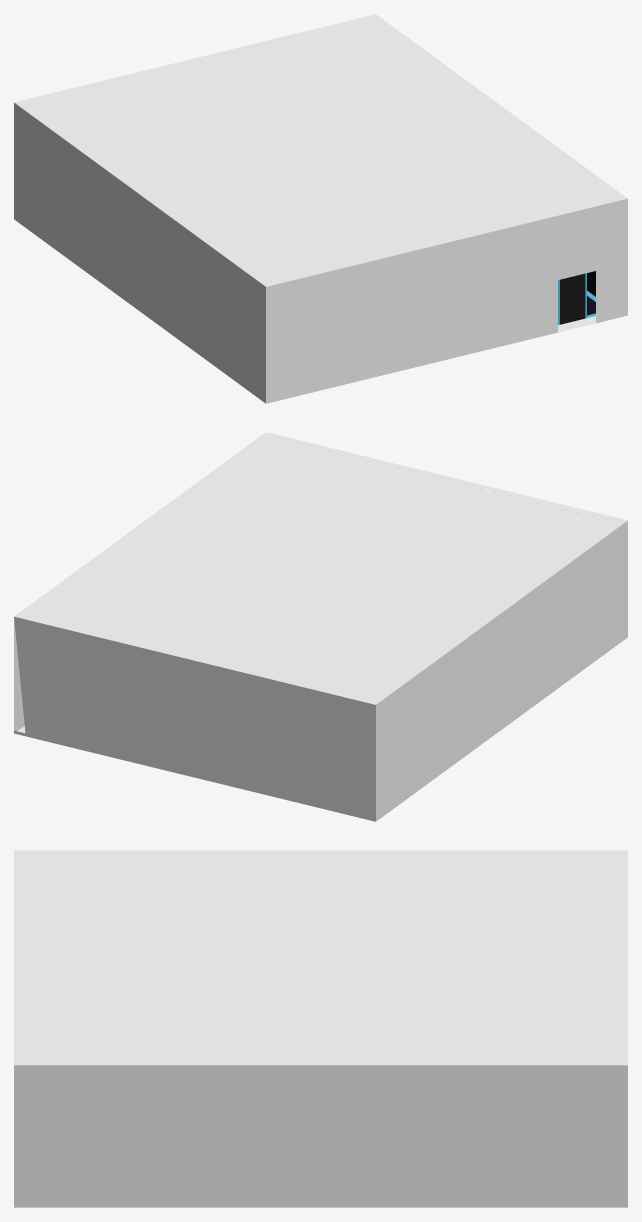
Rendered from Cloud room Ria 1.fbx.
3 renders of one model, top to bottom at view 1: azimuth 30°, elevation 25°; view 2: azimuth 150°, elevation 25°; view 3: azimuth 270°, elevation 25°, orthographic. The views are drawn at different scales.
Parts seen in each view (by area): view 1: Model; view 2: Model; view 3: Model.
Part boxes in pixels (x1,y1,x2,y2): Model: (14,14,627,403); Model: (14,432,627,821); Model: (14,850,627,1207).
Bounding box in the file's own units: 1432 × 442 × 1728.
